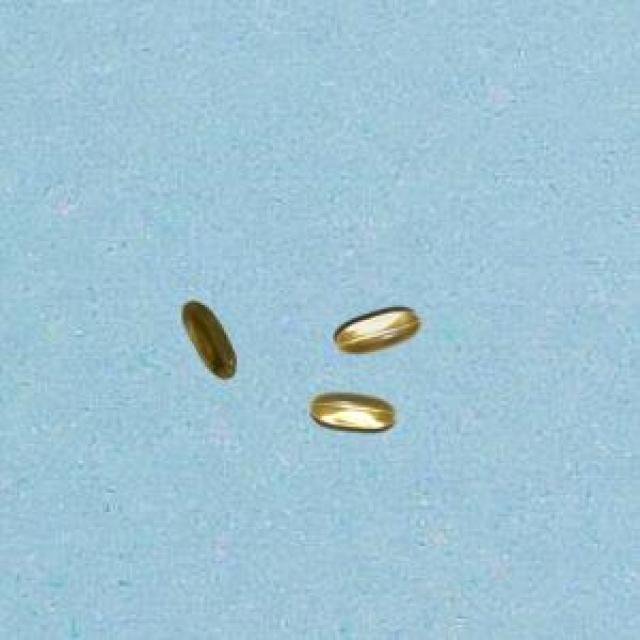Fish_Oil: (324, 294, 432, 365), (177, 290, 244, 385), (303, 378, 402, 440)
